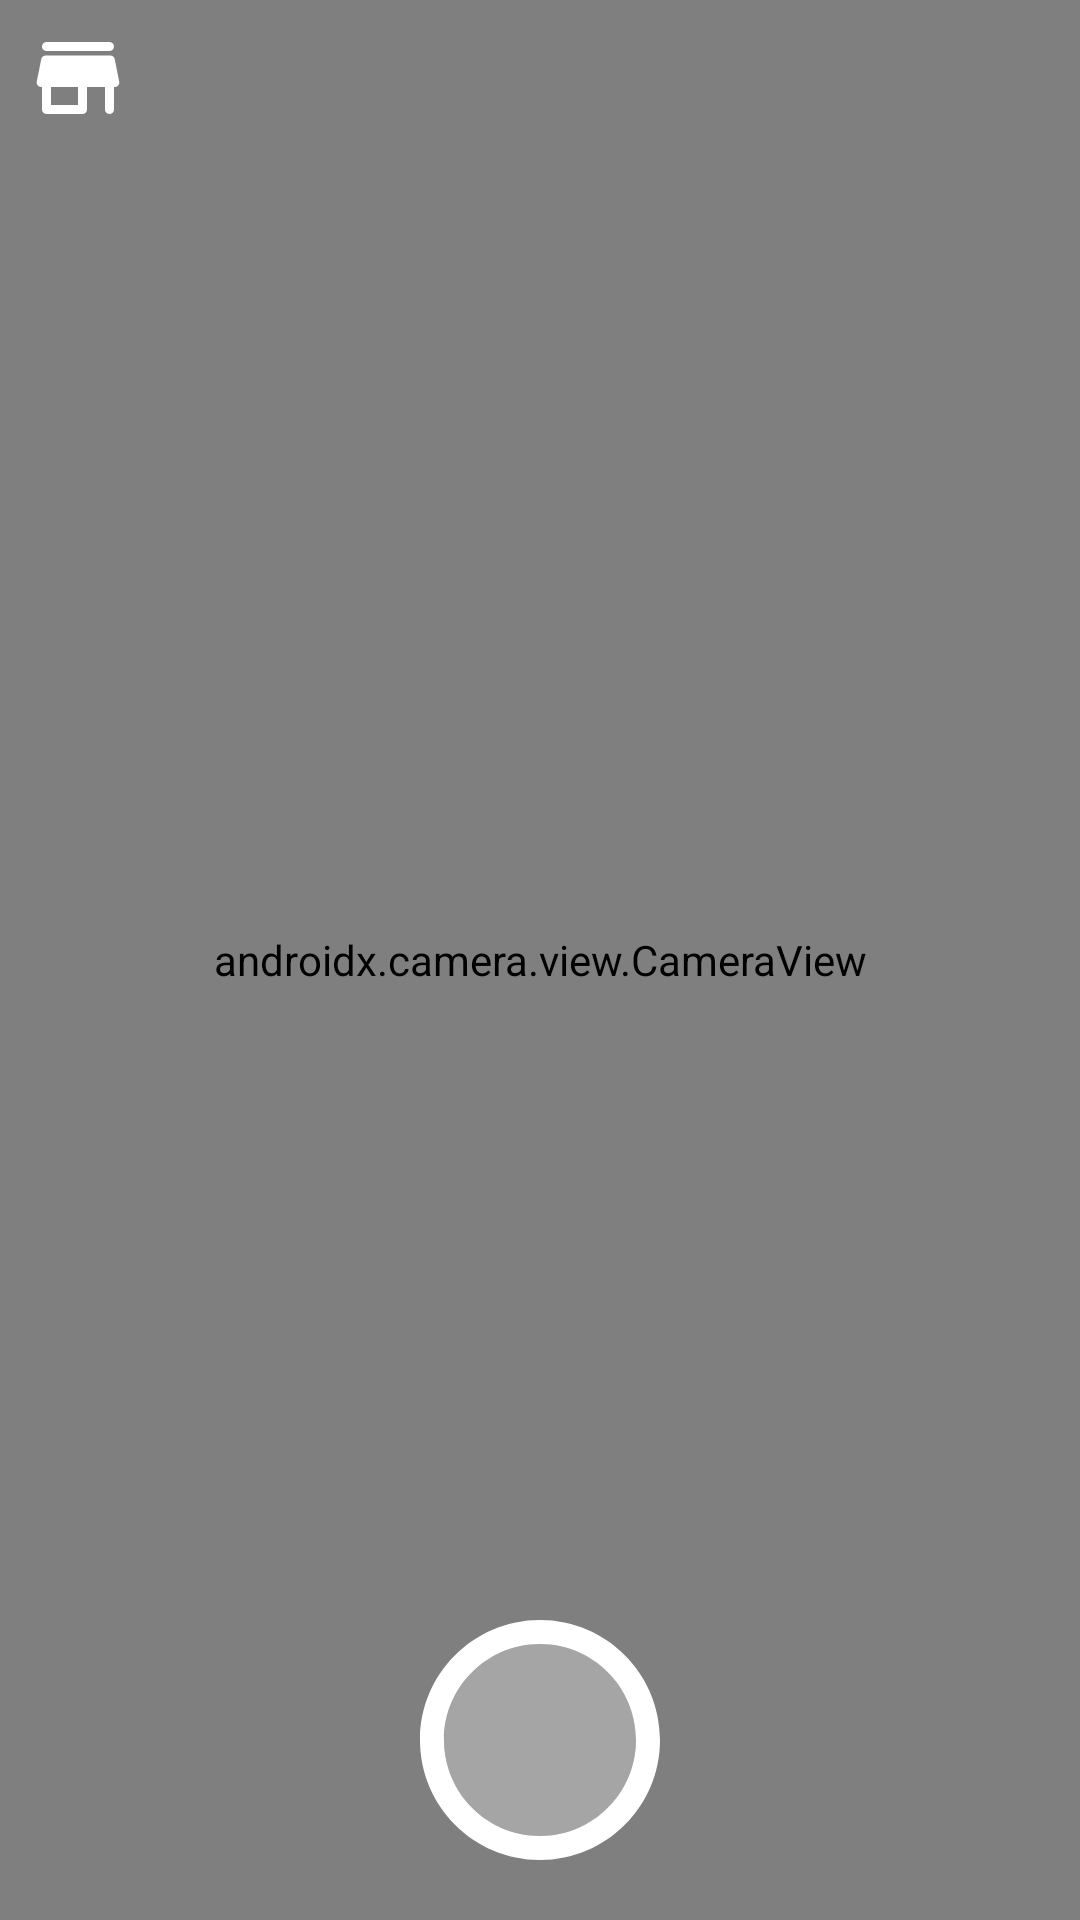

Where to tap for icons on this 1080 × 1920 app screen, as [x,y]:
store: [78,78]
